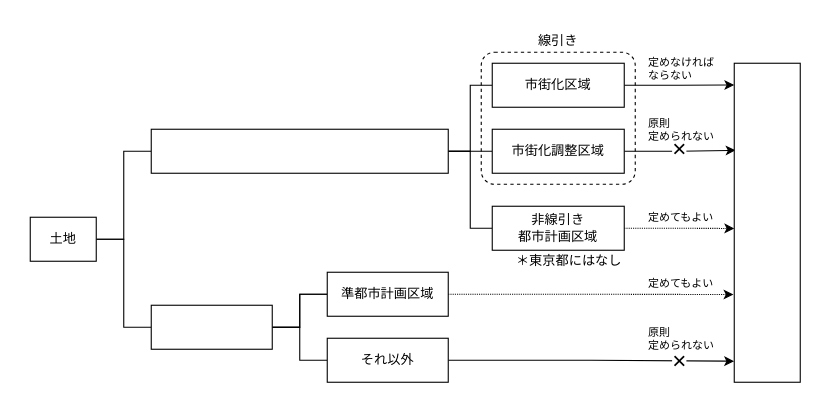
This 829x411 diagram has some shape labels left out. Here are the shapes that lost their labels. From the top down, the box of each, then its label:
(150, 128, 448, 173): 都市計画区域
(733, 62, 800, 382): 用途地域 13種
(150, 304, 272, 349): 都市計画区域外
